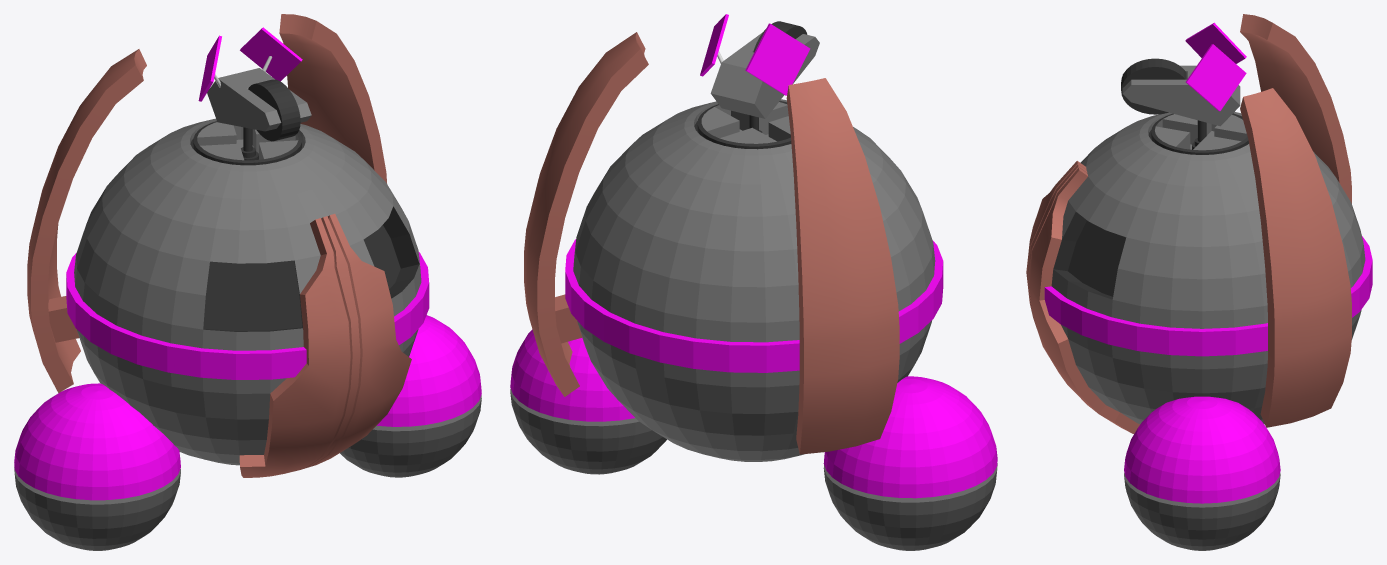
File: vessle.fbx
The picture shows the model from 3 angles, left to right: view 1: azimuth 30°, elevation 25°; view 2: azimuth 150°, elevation 25°; view 3: azimuth 270°, elevation 25°; orthographic projection. The views are drawn at different scales.
Parts seen in each view (by area): view 1: Sphere.016, Sphere.017, Sphere.018, Sphere.020, Sphere.019, Cube.053, Cylinder.014, Cube.055, Cube.054; view 2: Sphere.016, Sphere.020, Sphere.017, Sphere.019, Cube.053, Cube.054, Cube.055; view 3: Sphere.016, Sphere.020, Sphere.017, Sphere.019, Sphere.018, Cube.053, Cube.055, Cylinder.014, Cube.054.
Boxes of the visible parts, x1,y1,x2,y2 form: Sphere.016: (74,118,421,465); Sphere.017: (14,315,481,550); Sphere.018: (239,213,411,477); Sphere.020: (27,14,386,392); Sphere.019: (66,252,429,379); Cube.053: (207,68,311,131); Cylinder.014: (248,79,300,141); Cube.055: (240,27,302,81); Cube.054: (198,35,221,101); Sphere.016: (573,99,935,461); Sphere.020: (524,32,899,454); Sphere.017: (510,329,997,550); Sphere.019: (565,239,943,372); Cube.053: (710,32,819,118); Cube.054: (745,23,810,95); Cube.055: (700,14,728,76); Sphere.016: (1051,112,1365,424); Sphere.020: (1240,14,1351,427); Sphere.017: (1124,396,1280,550); Sphere.019: (1044,236,1372,356); Sphere.018: (1026,161,1139,433); Cube.053: (1122,65,1240,126); Cube.055: (1185,44,1246,111); Cylinder.014: (1121,58,1186,114); Cube.054: (1185,22,1246,63).
Size of the model in its own units: 201 by 203 by 144.
